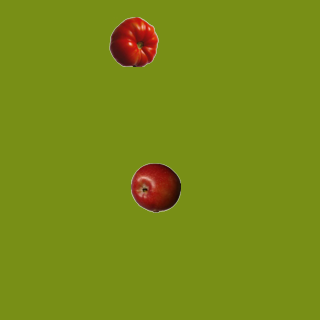Apple Braeburn: (130, 162, 180, 212)
Tomato 3: (108, 16, 158, 66)
